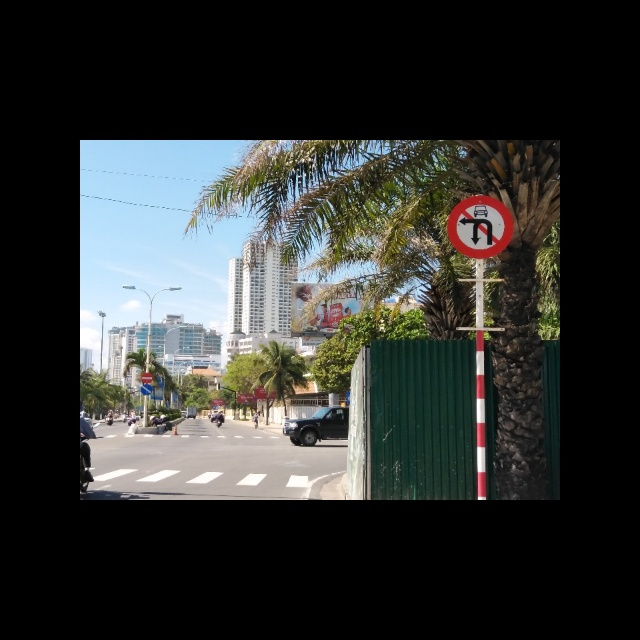Cấm xe ô tô quay đầu và rẽ trái: (447, 191, 517, 259)
